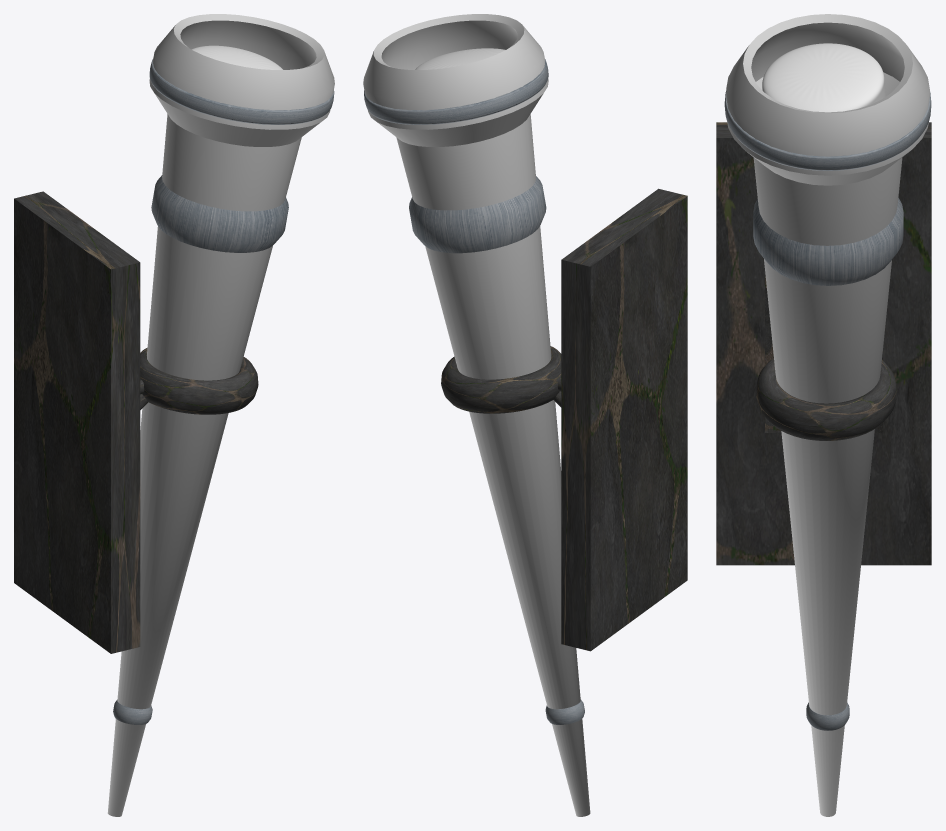
The model's file is Antorcha_Con fuego.fbx.
The picture shows the model from 3 angles, left to right: view 1: azimuth 30°, elevation 25°; view 2: azimuth 150°, elevation 25°; view 3: azimuth 270°, elevation 25°; orthographic projection. The views are drawn at different scales.
Visible parts, largest first — view 1: Cubo, Cilindro, Cilindro.003, Cilindro.002, Rosca, Cilindro.005, Fuego, Cilindro.001; view 2: Cubo, Cilindro, Cilindro.003, Cilindro.002, Rosca, Cilindro.005, Fuego, Cilindro.001; view 3: Cubo, Cilindro, Cilindro.003, Fuego, Cilindro.002, Rosca, Cilindro.005, Cilindro.001, Cubo.001.
Part boxes in pixels (<box>): Cubo: <box>14,191,140,653</box>; Cilindro: <box>107,114,301,816</box>; Cilindro.003: <box>149,14,334,146</box>; Cilindro.002: <box>151,175,288,252</box>; Rosca: <box>140,347,258,414</box>; Cilindro.005: <box>149,59,334,124</box>; Fuego: <box>191,45,282,69</box>; Cilindro.001: <box>113,700,152,724</box>; Cubo: <box>561,188,687,651</box>; Cilindro: <box>396,114,590,816</box>; Cilindro.003: <box>363,14,548,146</box>; Cilindro.002: <box>409,176,546,253</box>; Rosca: <box>441,346,561,413</box>; Cilindro.005: <box>364,59,548,124</box>; Fuego: <box>415,48,505,69</box>; Cilindro.001: <box>545,699,584,724</box>; Cubo: <box>716,122,931,565</box>; Cilindro: <box>753,157,902,816</box>; Cilindro.003: <box>726,14,929,185</box>; Fuego: <box>762,43,885,112</box>; Cilindro.002: <box>753,197,903,285</box>; Rosca: <box>755,357,897,440</box>; Cilindro.005: <box>724,91,931,170</box>; Cilindro.001: <box>806,702,849,730</box>; Cubo.001: <box>765,271,882,432</box>.
Size of the model in its own units: 144 by 396 by 92.29.
